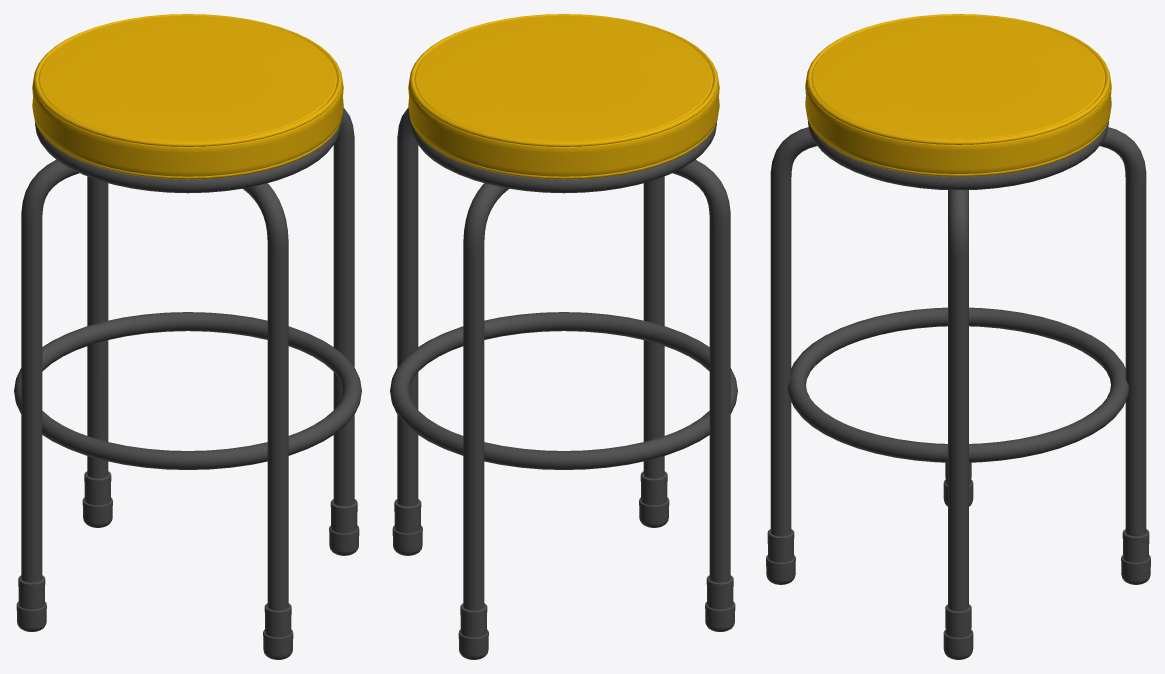
The model's file is chair2.fbx.
The picture shows the model from 3 angles, left to right: view 1: azimuth 30°, elevation 25°; view 2: azimuth 150°, elevation 25°; view 3: azimuth 270°, elevation 25°; orthographic projection.
Parts seen in each view (by area): view 1: pCylinder1, polySurface17, pTorus1, polySurface7, pTorus2; view 2: pCylinder1, polySurface17, pTorus1, polySurface7, pTorus2; view 3: pCylinder1, polySurface17, pTorus1, polySurface7, pTorus2.
Part boxes in pixels (x1,y1,x2,y2): pCylinder1: (32, 14, 343, 179); polySurface17: (16, 148, 354, 659); pTorus1: (14, 312, 361, 469); polySurface7: (329, 107, 359, 555); pTorus2: (35, 122, 340, 193); pCylinder1: (408, 14, 719, 179); polySurface17: (397, 148, 735, 659); pTorus1: (390, 312, 737, 469); polySurface7: (392, 107, 422, 555); pTorus2: (411, 122, 716, 193); pCylinder1: (805, 14, 1111, 176); polySurface17: (766, 127, 1150, 611); pTorus1: (787, 307, 1129, 462); polySurface7: (943, 190, 973, 659); pTorus2: (807, 121, 1109, 190).
Bounding box in the file's own units: 36.86 × 53.31 × 36.86.
